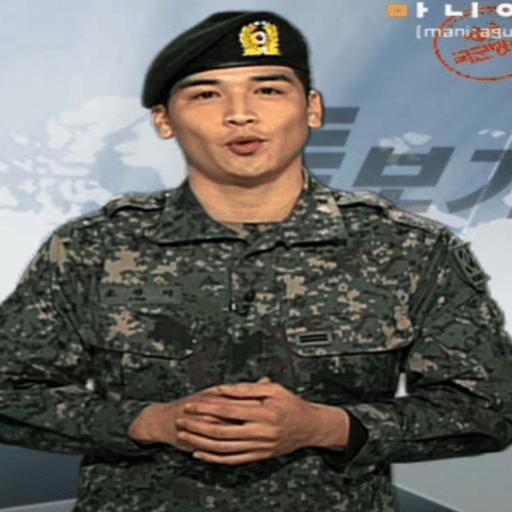korea army: (0, 8, 511, 511)
